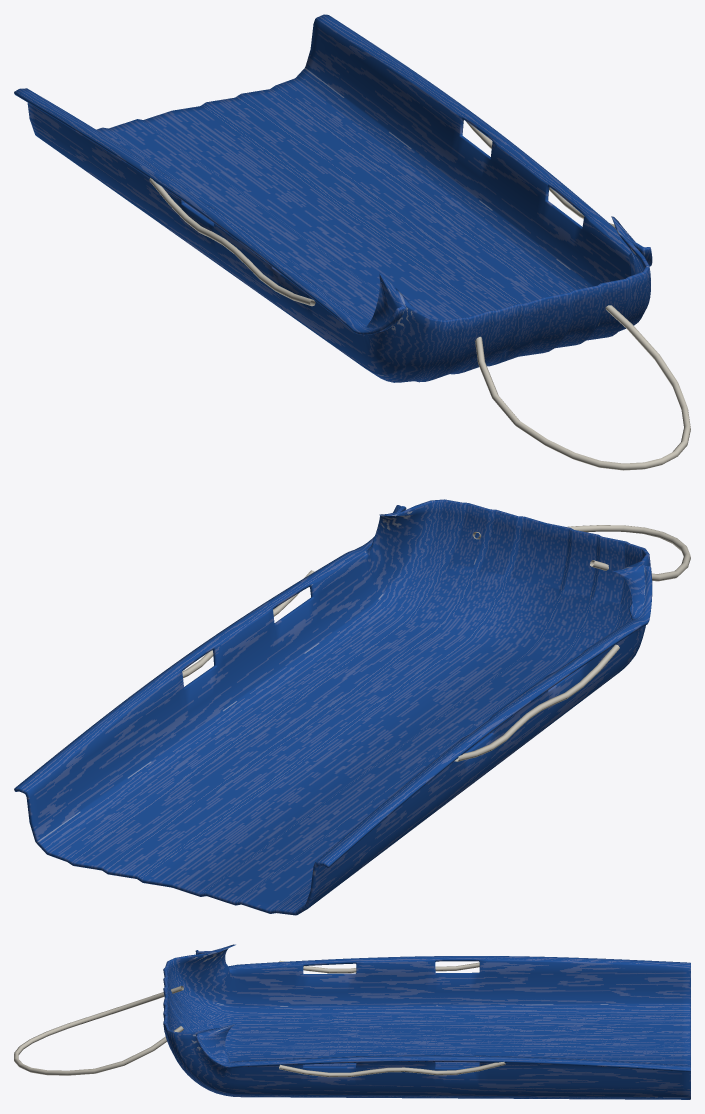
Rendered from sled_raw.glb.
The picture shows the model from 3 angles, top to bottom: view 1: azimuth 30°, elevation 25°; view 2: azimuth 150°, elevation 25°; view 3: azimuth 270°, elevation 25°; orthographic projection. The views are drawn at different scales.
Visible parts, largest first — view 1: Sled, SledRope_Front_web, SledRope_Side_R_web; view 2: Sled, SledRope_Front_web, SledRope_Side_R_web; view 3: Sled, SledRope_Front_web, SledRope_Side_L_web, SledRope_Side_R_web.
Boxes of the visible parts, bbox=[...] form: Sled: bbox=[14, 14, 652, 382]; SledRope_Front_web: bbox=[475, 305, 690, 470]; SledRope_Side_R_web: bbox=[149, 178, 315, 306]; Sled: bbox=[14, 499, 652, 915]; SledRope_Front_web: bbox=[472, 525, 690, 581]; SledRope_Side_R_web: bbox=[454, 644, 619, 761]; Sled: bbox=[163, 944, 690, 1099]; SledRope_Front_web: bbox=[14, 985, 183, 1075]; SledRope_Side_L_web: bbox=[279, 1061, 505, 1077]; SledRope_Side_R_web: bbox=[279, 960, 479, 973].
Bounding box in the file's own units: 0.5431 × 0.18 × 1.44.
Materials: 4 (1 with a texture image).
